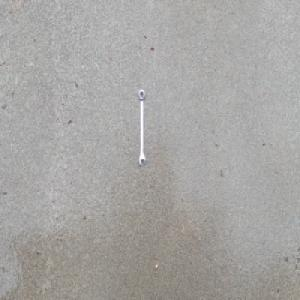Wrench: (138, 88, 146, 167)
